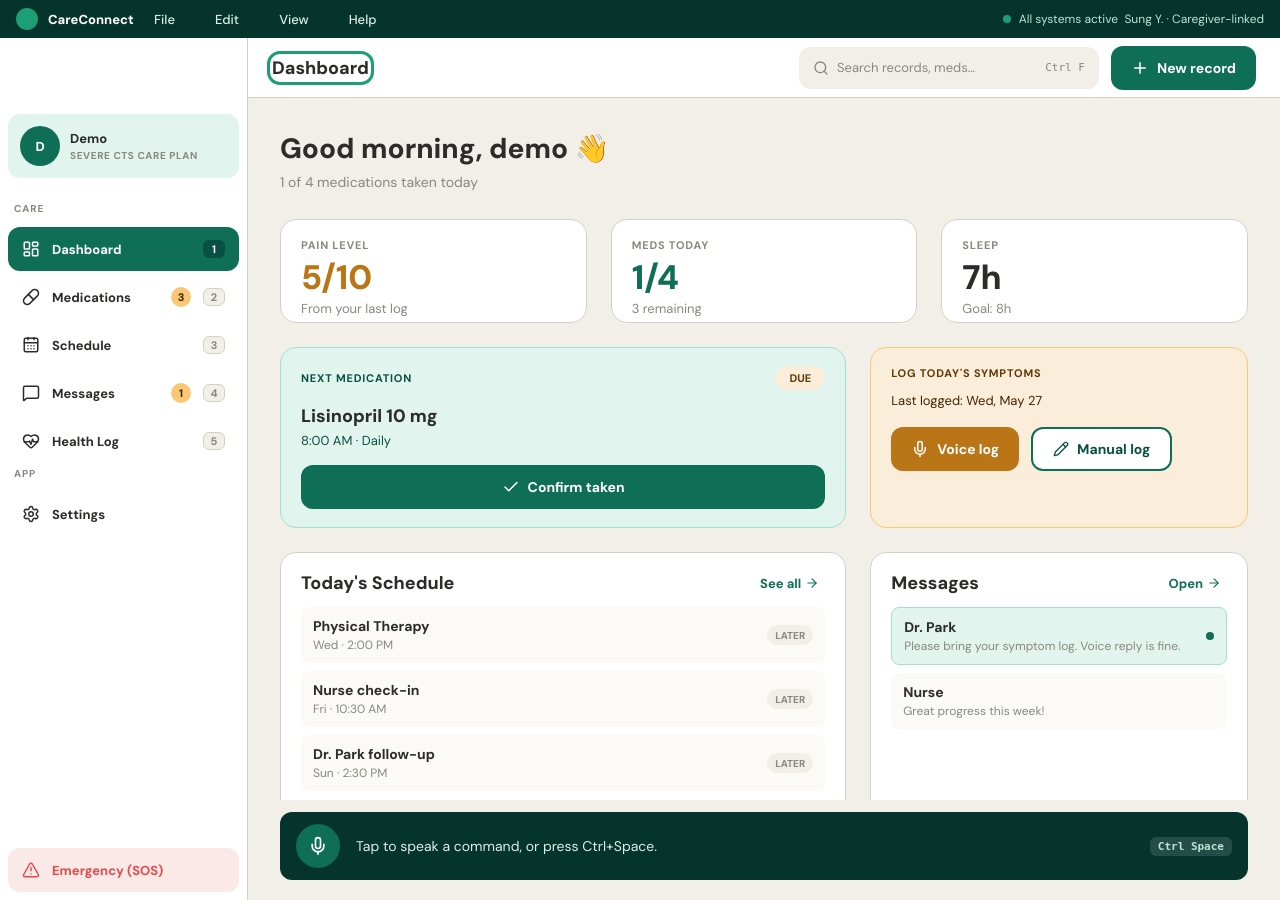
Test: voice commands › confirms the next medication via two-step voice
Expected: the heading "Dashboard" is shown, [272,56,369,80]
Click the button named "Start voice command" at (318, 846), box [296,824,340,868]
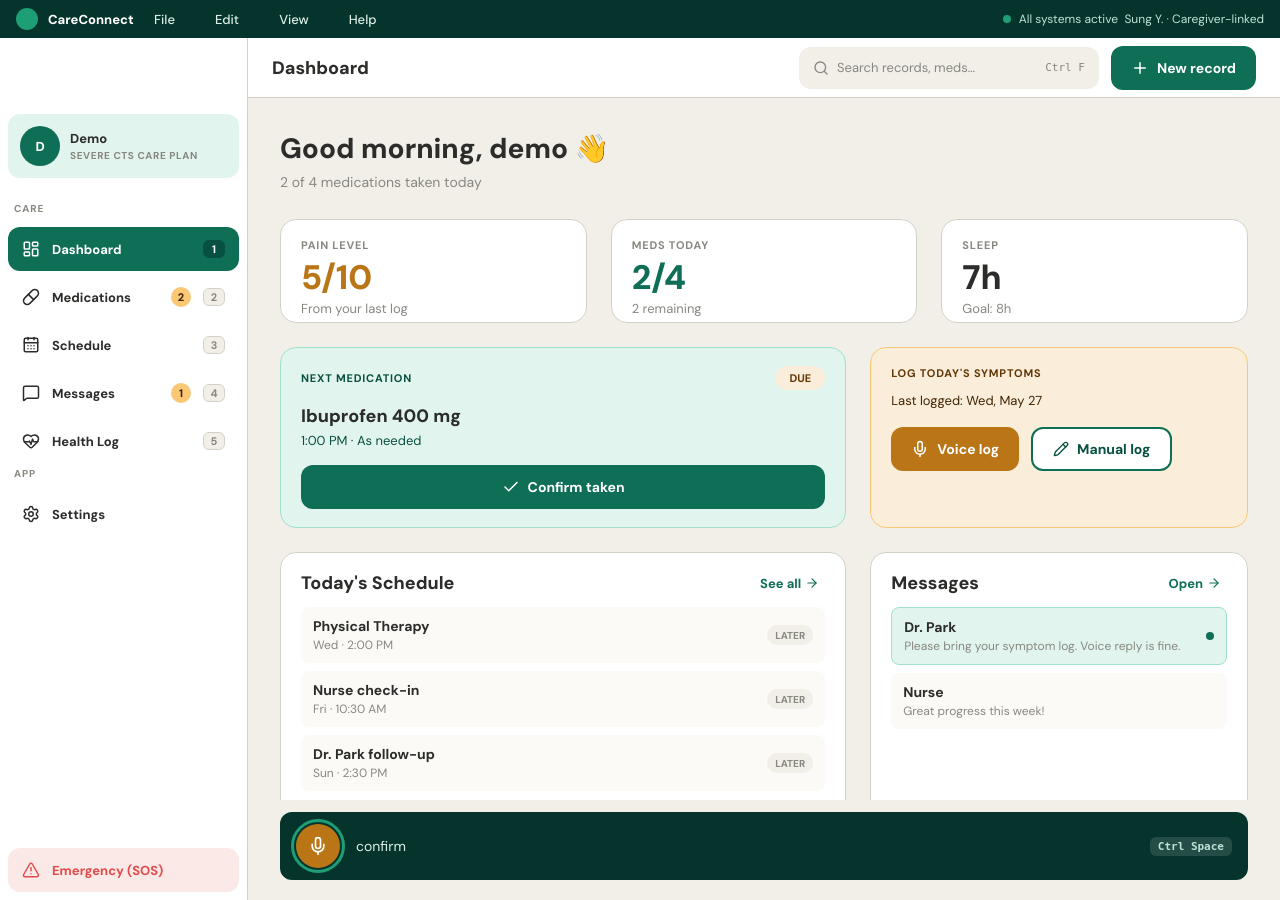
Expected: the heading "Ibuprofen 400 mg" is shown, [301,404,461,428]
